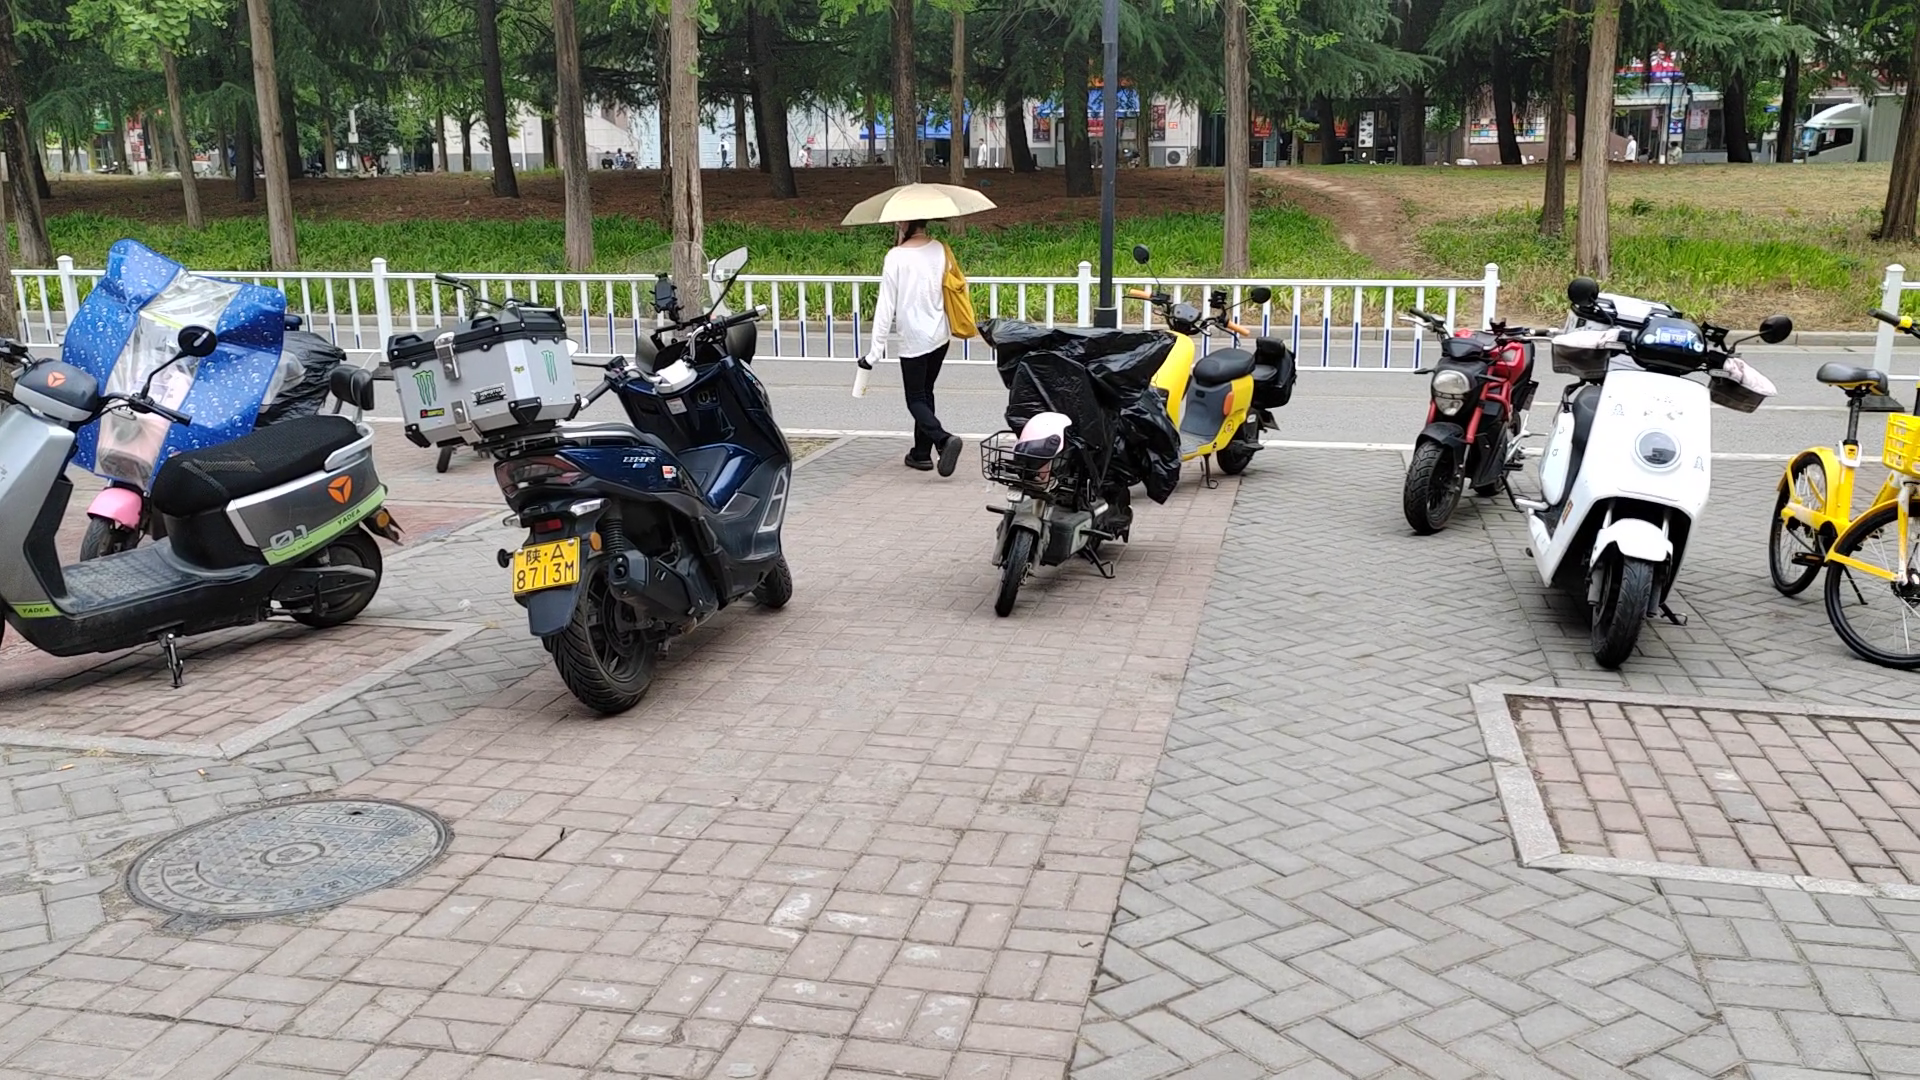others: (388, 302, 810, 684), (7, 266, 376, 680), (1523, 278, 1724, 653), (957, 313, 1179, 592), (1129, 247, 1299, 502), (1415, 301, 1520, 530)
shared_bike_meituan: (1760, 249, 1920, 690)
